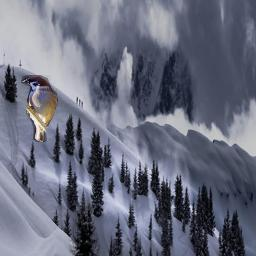Sparrow: (21, 75, 58, 142)
